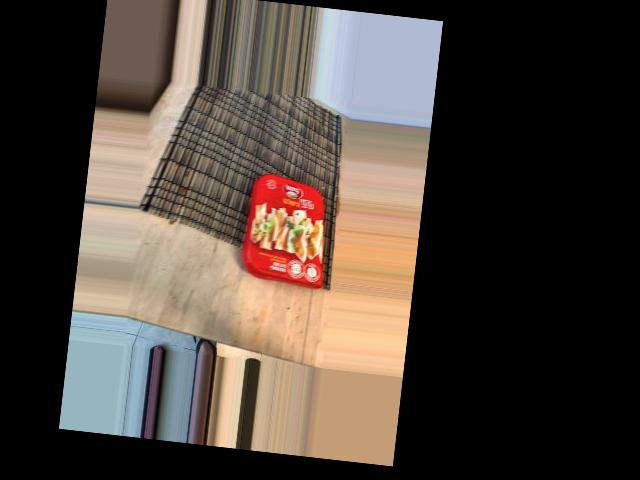cheese: (121, 182, 258, 287)
